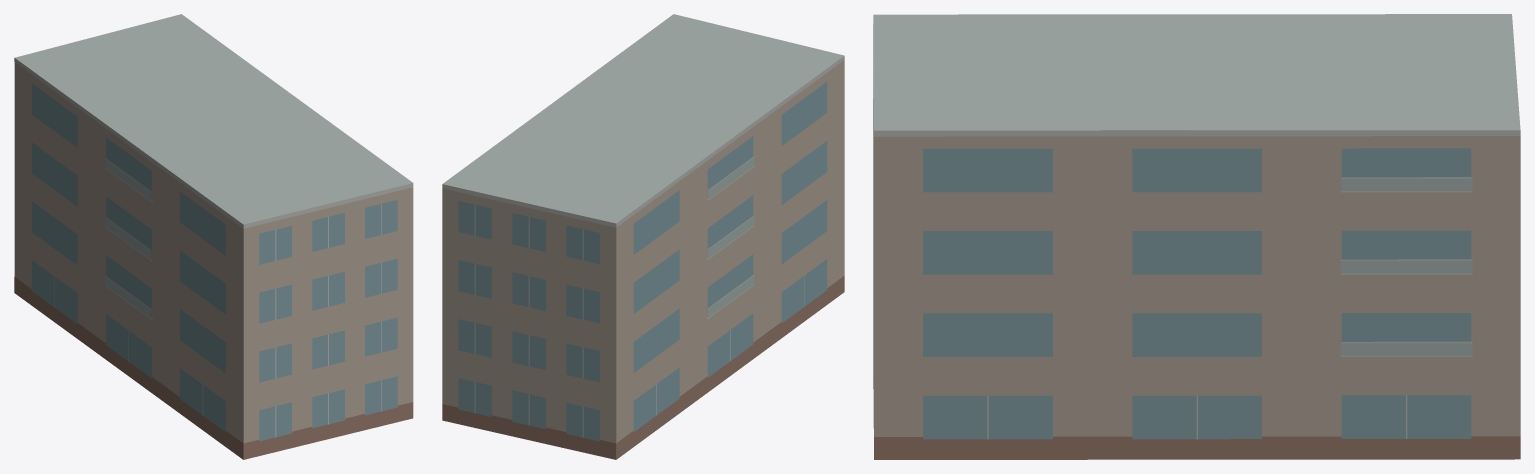
Rendered from survey-upis-32706654.glb.
The picture shows the model from 3 angles, left to right: view 1: azimuth 30°, elevation 25°; view 2: azimuth 150°, elevation 25°; view 3: azimuth 270°, elevation 25°; orthographic projection. The views are drawn at different scales.
Parts seen in each view (by area): view 1: survey-upis-32706654.tmp; view 2: survey-upis-32706654.tmp; view 3: survey-upis-32706654.tmp.
Part boxes in pixels (x1,y1,x2,y2): survey-upis-32706654.tmp: [14, 14, 413, 459]; survey-upis-32706654.tmp: [442, 14, 844, 459]; survey-upis-32706654.tmp: [873, 14, 1520, 459].
Size of the model in its own units: 10.36 by 13.6 by 24.24.
